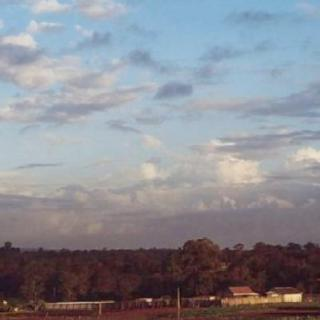Stratocumulus: (0, 1, 320, 240)
